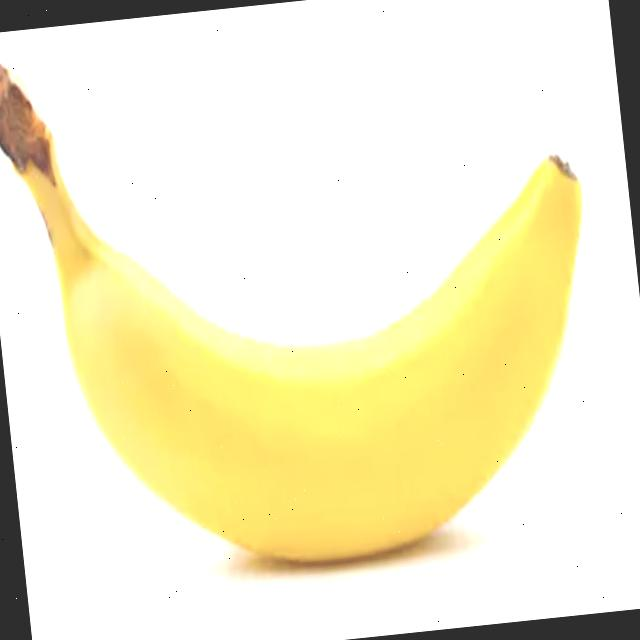banana: (0, 1, 617, 597)
